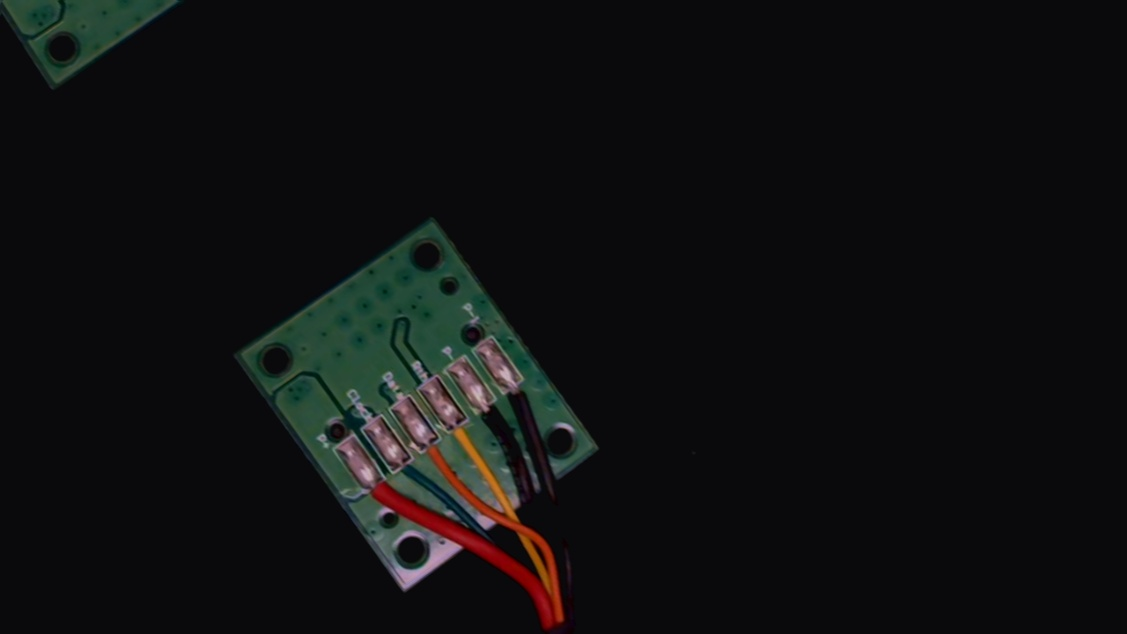Black: (462, 386, 523, 456)
Black1: (493, 367, 550, 432)
Green: (381, 443, 432, 500)
Orange: (409, 425, 464, 486)
Red: (352, 459, 411, 526)
Yellow: (435, 406, 496, 477)
